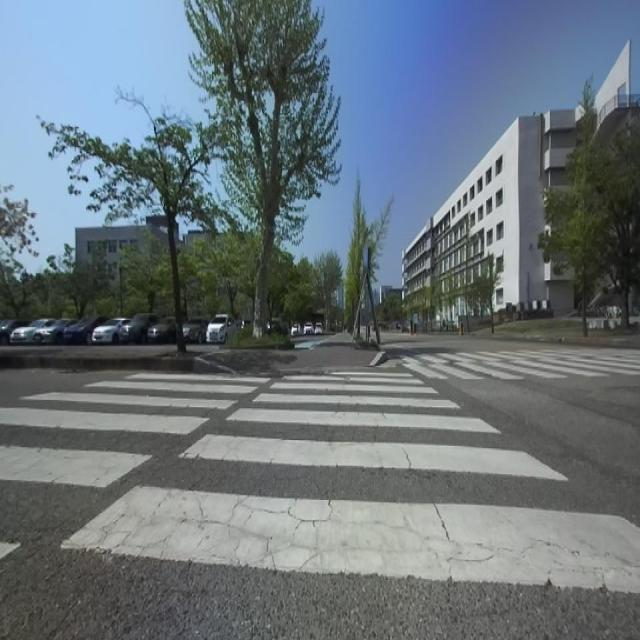sidewalk: (204, 340, 376, 372), (0, 346, 176, 356), (496, 328, 583, 338), (589, 330, 640, 343), (324, 332, 352, 345), (186, 347, 222, 356)
